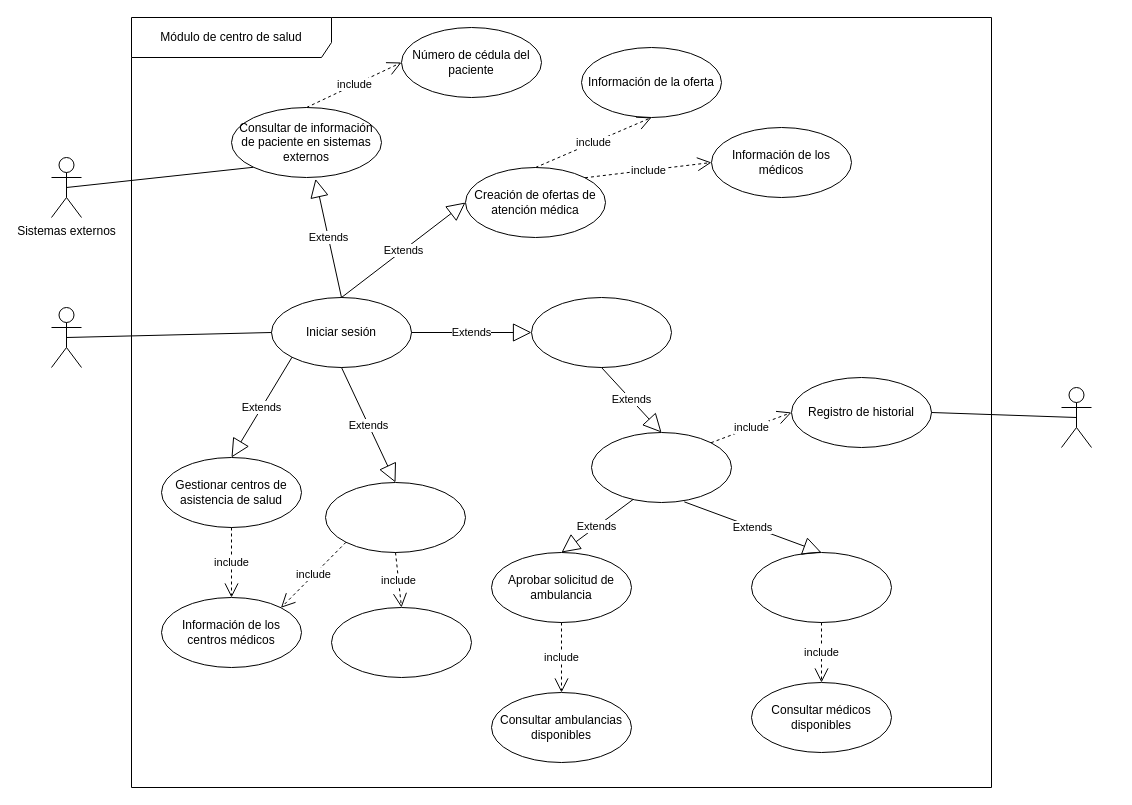
This 1132x805 diagram has some shape labels left out. Here are the shapes that lost their labels. From the top down, the centre of each, then its label:
pixel 66 337: Encargado de centro médicos
pixel 601 332: Listado de solicitudes de ayuda médica
pixel 1076 417: Base de datos
pixel 661 467: Aceptar solicitudes de atención médica
pixel 395 517: Gestionar ambulancias
pixel 821 587: Aprobar teleconsulta con médico asesor
pixel 401 642: Información de la ambulancia
